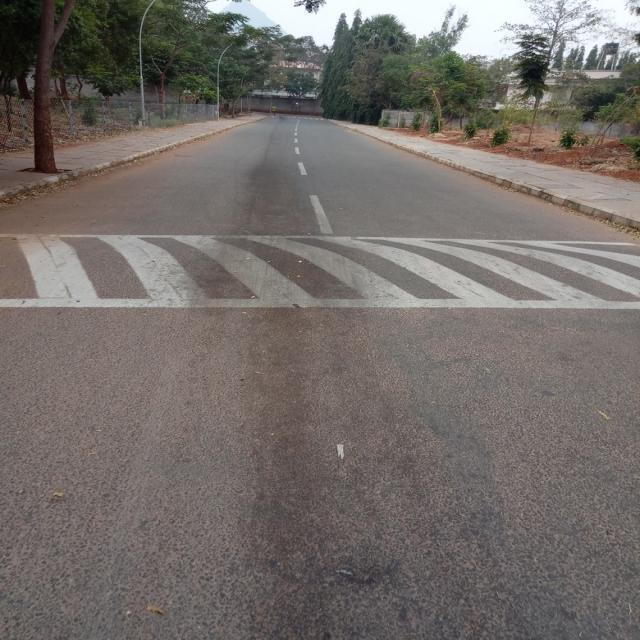speedbreaker: (0, 220, 638, 314)
